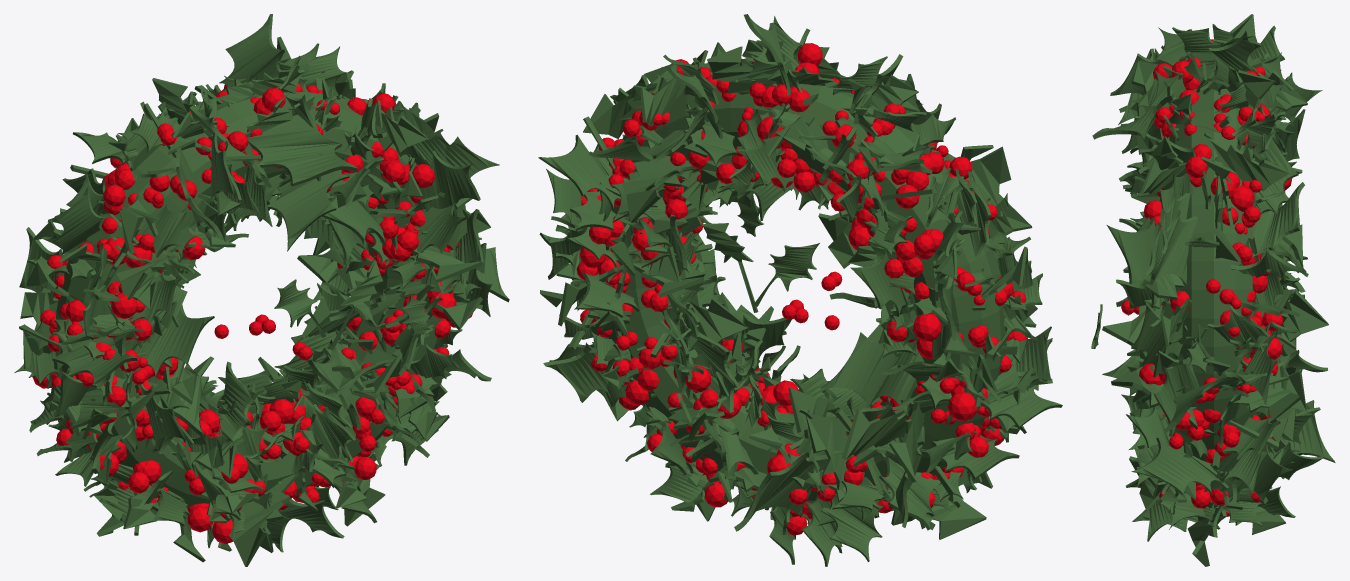
The model's file is holly_wreath.glb.
The picture shows the model from 3 angles, left to right: view 1: azimuth 30°, elevation 25°; view 2: azimuth 150°, elevation 25°; view 3: azimuth 270°, elevation 25°; orthographic projection. The views are drawn at different scales.
Visible parts, largest first — view 1: Torus, Curve.375, Curve.363, Curve.366, Curve.498, Curve.134, Curve.300, Curve.501, Curve.108, Curve.462, Curve.159, Curve.294 (+56 smaller); view 2: Torus, Curve.018, Curve.117, Curve.297, Curve.326, Curve.012, Curve.053, Curve.083, Curve.093, Curve.075, Curve.224, Curve.207 (+62 smaller); view 3: Torus, Curve.225, Curve.312, Curve.303, Curve.300, Curve.335, Curve.207, Curve.366, Curve.255, Curve.324, Curve.053, Curve.242 (+68 smaller).
Boxes of the visible parts, bbox=[...] form: Torus: bbox=[55, 91, 450, 506]; Curve.375: bbox=[194, 85, 357, 186]; Curve.363: bbox=[267, 78, 349, 251]; Curve.366: bbox=[219, 14, 300, 86]; Curve.498: bbox=[135, 308, 214, 376]; Curve.134: bbox=[229, 474, 299, 566]; Curve.300: bbox=[409, 150, 480, 216]; Curve.501: bbox=[19, 324, 137, 384]; Curve.108: bbox=[206, 361, 258, 515]; Curve.462: bbox=[51, 185, 105, 254]; Curve.159: bbox=[306, 404, 355, 487]; Curve.294: bbox=[415, 204, 466, 257]; Torus: bbox=[597, 77, 1006, 503]; Curve.018: bbox=[820, 332, 1017, 416]; Curve.117: bbox=[734, 453, 828, 531]; Curve.297: bbox=[538, 134, 620, 209]; Curve.326: bbox=[622, 139, 691, 222]; Curve.012: bbox=[979, 357, 1062, 428]; Curve.053: bbox=[841, 405, 1019, 459]; Curve.083: bbox=[806, 414, 935, 530]; Curve.093: bbox=[821, 494, 883, 561]; Curve.075: bbox=[879, 457, 941, 530]; Curve.224: bbox=[593, 291, 747, 348]; Curve.207: bbox=[543, 335, 609, 402]; Torus: bbox=[1169, 64, 1257, 493]; Curve.225: bbox=[1131, 438, 1223, 494]; Curve.312: bbox=[1145, 209, 1198, 285]; Curve.303: bbox=[1245, 182, 1304, 256]; Curve.300: bbox=[1106, 217, 1169, 306]; Curve.335: bbox=[1210, 139, 1289, 191]; Curve.207: bbox=[1203, 437, 1292, 501]; Curve.366: bbox=[1200, 31, 1261, 91]; Curve.255: bbox=[1153, 353, 1199, 436]; Curve.324: bbox=[1255, 126, 1298, 213]; Curve.053: bbox=[1281, 286, 1328, 341]; Curve.242: bbox=[1111, 366, 1278, 449].
Size of the model in its own units: 9.78 by 10.09 by 4.39.
